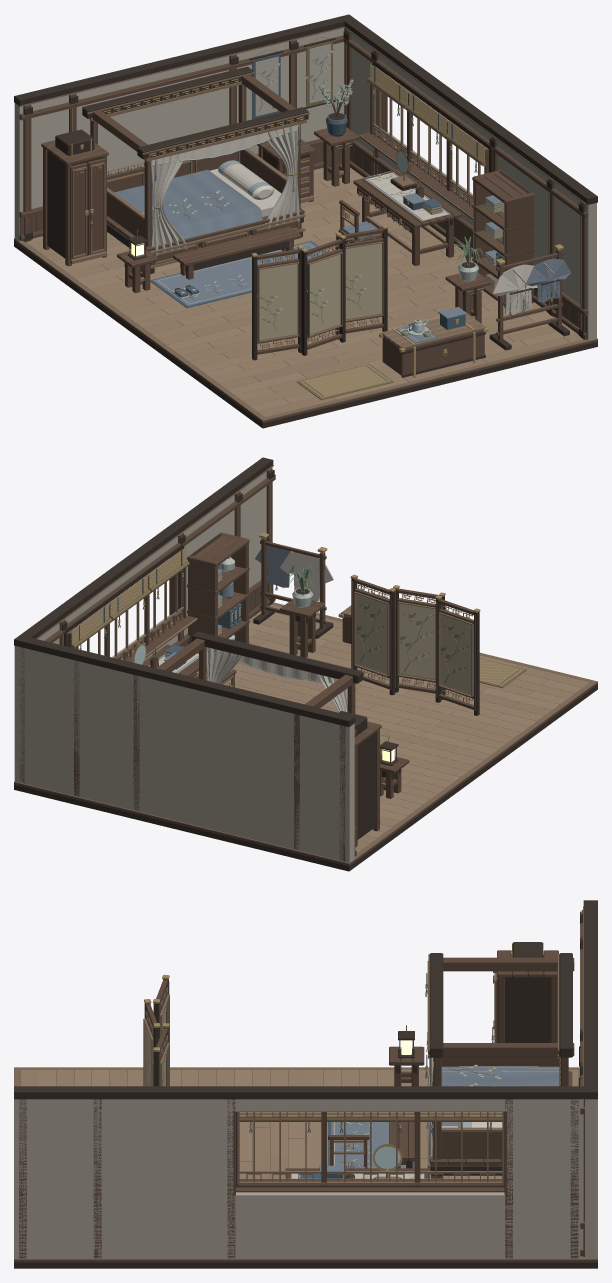
The model's file is female_quarters.glb.
3 views of the same model, one above another, from view 1: azimuth 30°, elevation 25°; view 2: azimuth 150°, elevation 25°; view 3: azimuth 270°, elevation 25° (orthographic). The views are drawn at different scales.
Parts seen in each view (by area): view 1: Female_architecture_Female_matte, Female_bed_Female_matte, Female_screen_Female_matte, Female_wardrobe_Female_matte, Female_window_right_Female_matte, Female_shelf_Female_matte, Female_chest_Female_matte, Female_desk_Female_matte, Female_clothes_rack_Female_matte, Female_rug_Female_matte, Female_bed_bench_Female_matte, Female_plant_corner_Female_matte (+8 smaller); view 2: Female_architecture_Female_matte, Female_screen_Female_matte, Female_window_right_Female_matte, Female_shelf_Female_matte, Female_bed_Female_matte, Female_clothes_rack_Female_matte, Female_wardrobe_Female_matte, Female_plant_entry_Female_matte, Female_lantern_table_Female_matte, Female_entry_mat_Female_matte, Female_desk_Female_matte; view 3: Female_architecture_Female_matte, Female_bed_Female_matte, Female_window_right_Female_matte, Female_wardrobe_Female_matte, Female_screen_Female_matte, Female_rug_Female_matte, Female_lantern_table_Female_matte, Female_bed_bench_Female_matte, Female_desk_Female_matte, Female_chair_Female_matte, Female_mirror_Female_metal.
Part boxes in pixels (x1,y1,x2,y2): Female_architecture_Female_matte: (14,14,597,428); Female_bed_Female_matte: (82,66,309,273); Female_screen_Female_matte: (252,228,387,360); Female_wardrobe_Female_matte: (41,129,108,266); Female_window_right_Female_matte: (359,60,493,219); Female_shelf_Female_matte: (472,170,534,307); Female_chest_Female_matte: (381,307,485,377); Female_desk_Female_matte: (353,169,462,265); Female_clothes_rack_Female_matte: (489,249,571,350); Female_rug_Female_matte: (150,241,326,308); Female_bed_bench_Female_matte: (172,226,301,279); Female_plant_corner_Female_matte: (314,79,359,186); Female_architecture_Female_matte: (14,457,597,871); Female_screen_Female_matte: (351,578,479,715); Female_window_right_Female_matte: (64,544,197,662); Female_shelf_Female_matte: (187,532,249,652); Female_bed_Female_matte: (156,631,364,713); Female_clothes_rack_Female_matte: (253,538,333,638); Female_wardrobe_Female_matte: (339,711,381,847); Female_plant_entry_Female_matte: (279,564,325,657); Female_lantern_table_Female_matte: (380,737,409,798); Female_entry_mat_Female_matte: (479,658,526,688); Female_desk_Female_matte: (142,644,206,678); Female_architecture_Female_matte: (14,900,597,1268); Female_bed_Female_matte: (425,953,574,1178); Female_window_right_Female_matte: (236,1111,504,1192); Female_wardrobe_Female_matte: (492,942,558,1042); Female_screen_Female_matte: (143,979,169,1086); Female_rug_Female_matte: (328,1122,414,1168); Female_lantern_table_Female_matte: (389,1025,424,1086); Female_bed_bench_Female_matte: (389,1112,414,1168); Female_desk_Female_matte: (285,1163,430,1178); Female_chair_Female_matte: (328,1135,369,1168); Female_mirror_Female_metal: (373,1144,402,1178).
Size of the model in its own units: 7 by 3 by 9.
